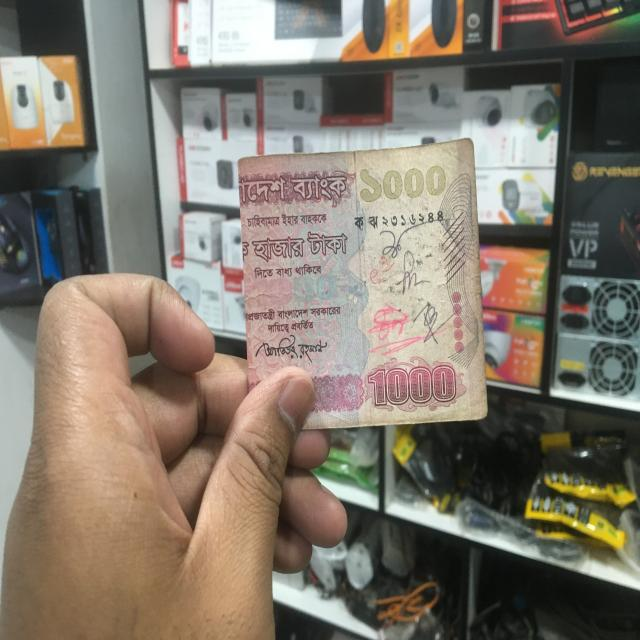Taka: (237, 156, 488, 422)
